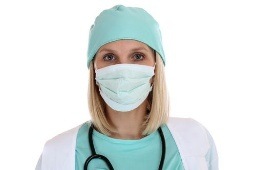correctlyWear: (93, 41, 155, 112)
